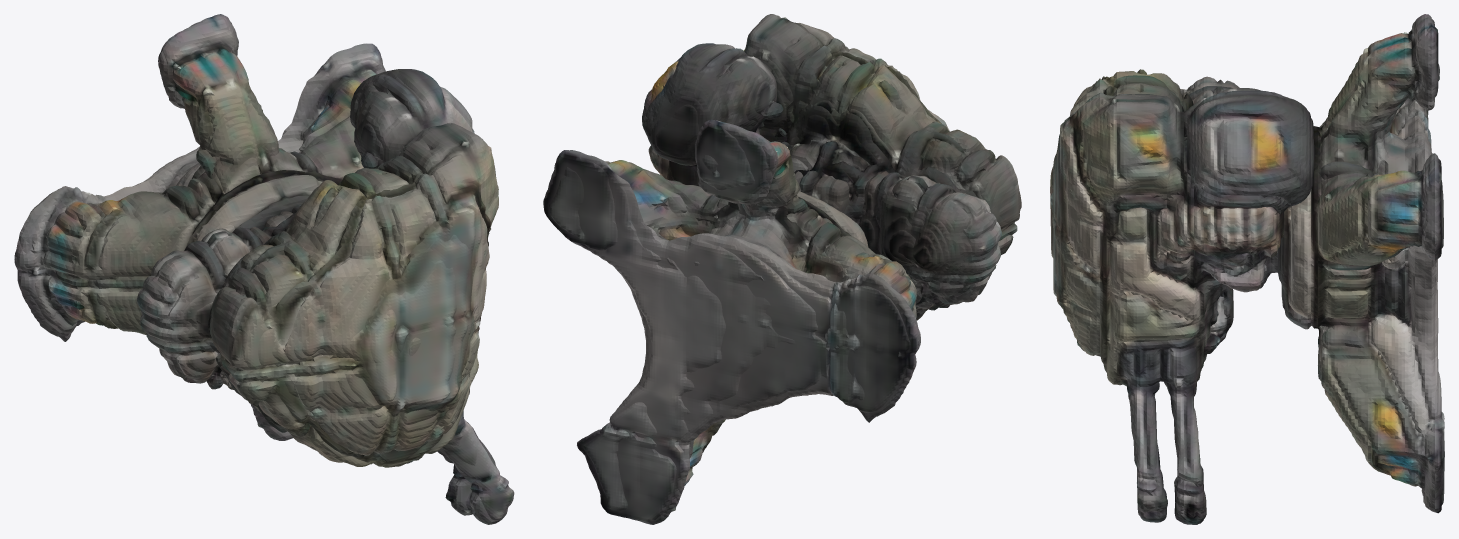
File: kestrel.glb
3 renders of one model, left to right at view 1: azimuth 30°, elevation 25°; view 2: azimuth 150°, elevation 25°; view 3: azimuth 270°, elevation 25°, orthographic. The views are drawn at different scales.
Parts seen in each view (by area): view 1: geometry_0; view 2: geometry_0; view 3: geometry_0.
Boxes of the visible parts, x1,y1,x2,y2 form: geometry_0: (14, 14, 514, 524); geometry_0: (543, 14, 1021, 524); geometry_0: (1050, 14, 1444, 524).
Size of the model in its own units: 0.9008 by 0.9794 by 0.8041.
